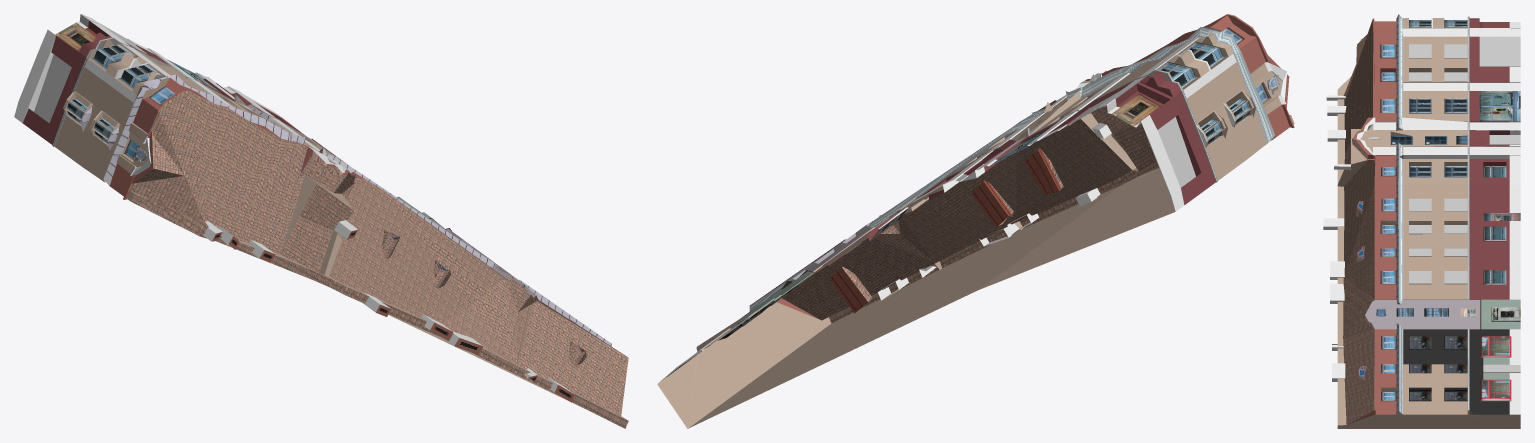
File: Harju_3-origo.obj
3 renders of one model, left to right at view 1: azimuth 30°, elevation 25°; view 2: azimuth 150°, elevation 25°; view 3: azimuth 270°, elevation 25°, orthographic. The views are drawn at different scales.
Parts seen in each view (by area): view 1: default; view 2: default; view 3: default.
Part boxes in pixels (left/top/right/bottom): default: left=14, top=14, right=628, bottom=428; default: left=657, top=14, right=1294, bottom=428; default: left=1323, top=14, right=1520, bottom=428.
Bounding box in the file's own units: 36.81 × 29 × 18.84.
